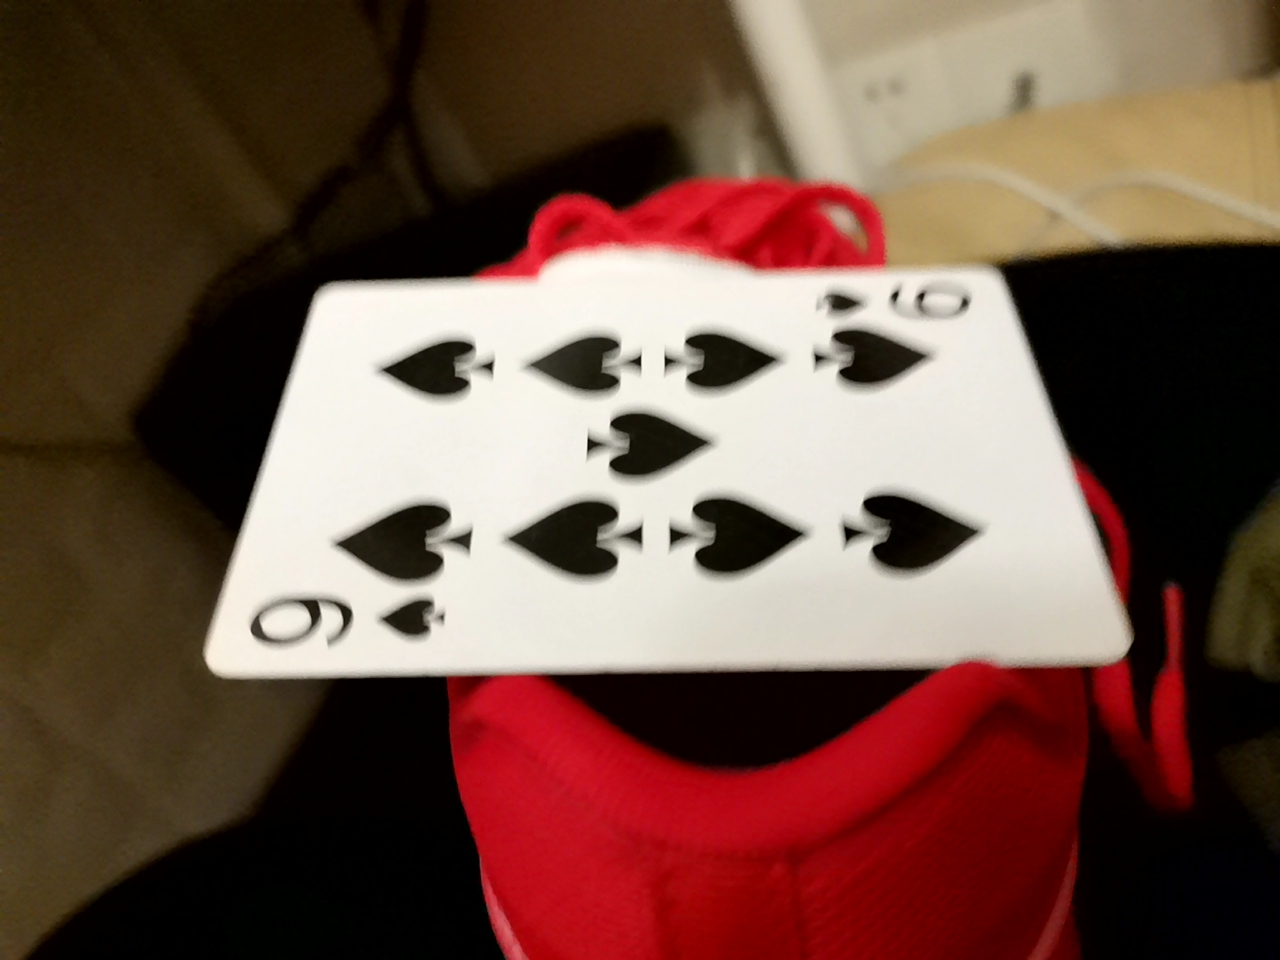ht 9: (191, 282, 1093, 712)
